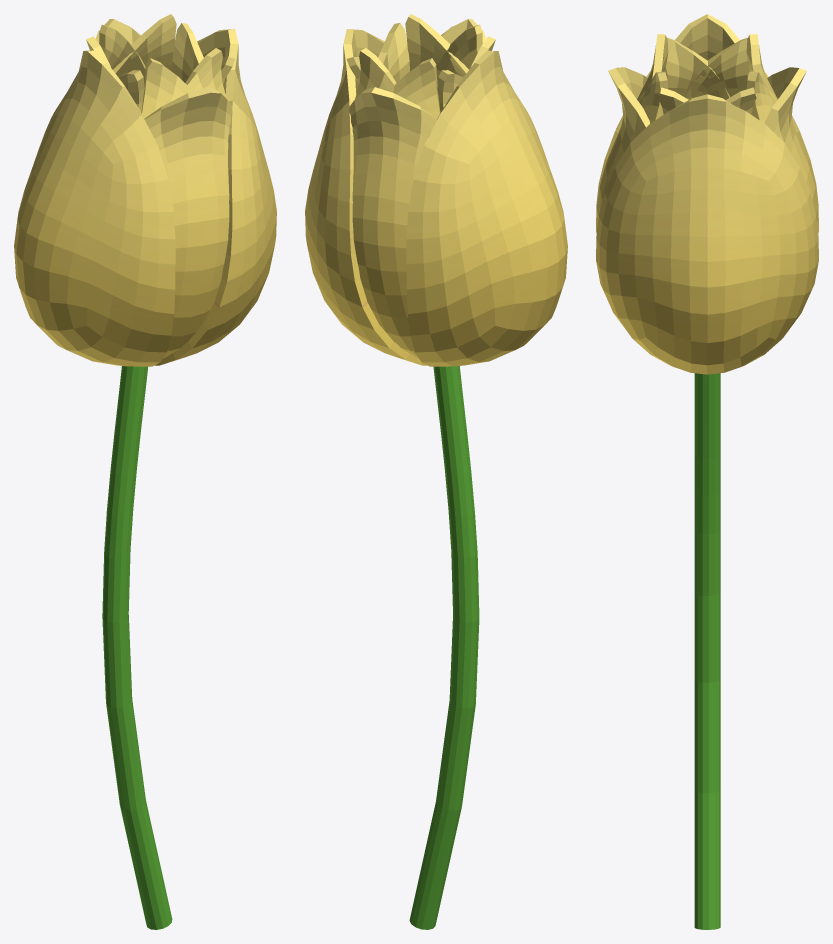
Rendered from Tulip_Yellow.fbx.
3 renders of one model, left to right at view 1: azimuth 30°, elevation 25°; view 2: azimuth 150°, elevation 25°; view 3: azimuth 270°, elevation 25°, orthographic.
Parts seen in each view (by area): view 1: Roundcube.005, Cylinder, Roundcube.001, Roundcube.002, Roundcube.003; view 2: Roundcube.005, Cylinder, Roundcube.001, Roundcube.002, Roundcube.003; view 3: Roundcube.005, Cylinder, Roundcube.001, Roundcube.003, Roundcube.002.
Boxes of the visible parts, x1,y1,x2,y2 form: Roundcube.005: [14, 29, 276, 366]; Cylinder: [102, 366, 172, 929]; Roundcube.001: [95, 19, 232, 358]; Roundcube.002: [99, 14, 226, 118]; Roundcube.003: [86, 23, 235, 112]; Roundcube.005: [305, 29, 567, 366]; Cylinder: [409, 366, 479, 929]; Roundcube.001: [349, 19, 486, 358]; Roundcube.002: [355, 14, 482, 119]; Roundcube.003: [346, 23, 495, 112]; Roundcube.005: [596, 14, 818, 374]; Cylinder: [694, 373, 720, 929]; Roundcube.001: [597, 67, 817, 223]; Roundcube.003: [658, 37, 756, 114]; Roundcube.002: [637, 34, 777, 123].
Bounding box in the file's own units: 97.06 × 337 × 77.21.
1 material, 1 textured.
